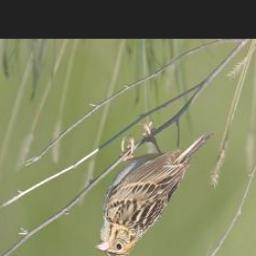Sparrow: (94, 120, 214, 256)
